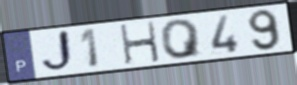1: (79, 27, 100, 70)
4: (209, 14, 241, 54)
9: (245, 8, 282, 52)
H: (118, 20, 163, 67)
J: (39, 28, 77, 74)
Q: (158, 17, 204, 61)
